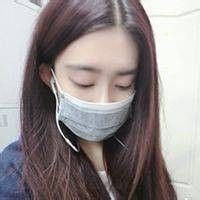face_mask: (53, 29, 137, 142)
